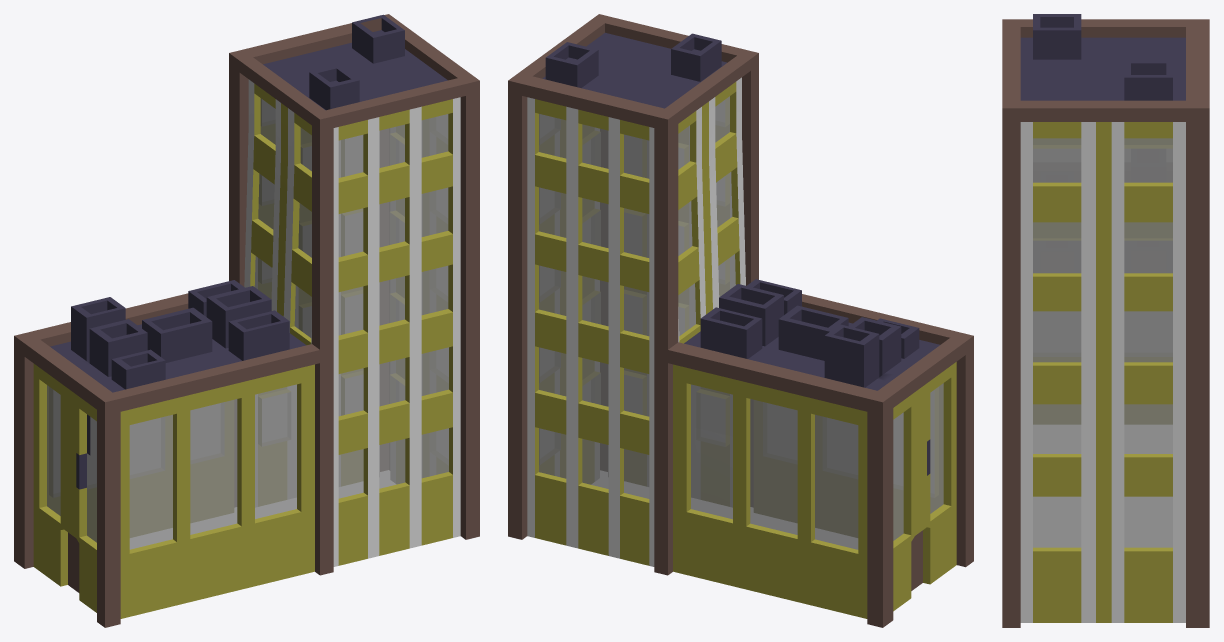
File: factory2.fbx
3 views of the same model, side by side, from view 1: azimuth 30°, elevation 25°; view 2: azimuth 150°, elevation 25°; view 3: azimuth 270°, elevation 25° (orthographic). The views are drawn at different scales.
Parts seen in each view (by area): view 1: Factory; view 2: Factory; view 3: Factory.
Part boxes in pixels (x1=…): Factory: x1=14, y1=14, x2=479, y2=627; Factory: x1=508, y1=14, x2=973, y2=627; Factory: x1=1002, y1=14, x2=1209, y2=627.
Bounding box in the file's own units: 68.57 × 82.59 × 28.83.
